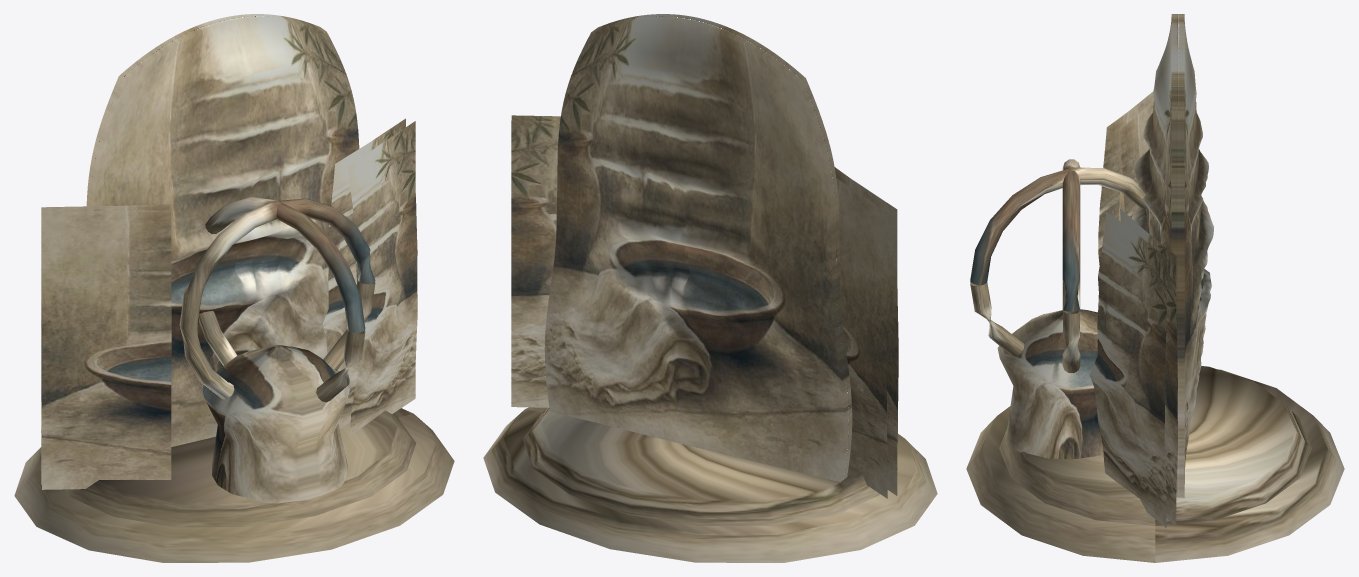
The model's file is joy-in-chains-8.glb.
3 renders of one model, left to right at view 1: azimuth 30°, elevation 25°; view 2: azimuth 150°, elevation 25°; view 3: azimuth 270°, elevation 25°, orthographic. The views are drawn at different scales.
Parts seen in each view (by area): view 1: PaintingSculptureMonument; view 2: PaintingSculptureMonument; view 3: PaintingSculptureMonument.
Part boxes in pixels (x1,y1,x2,y2): PaintingSculptureMonument: [14, 14, 454, 562]; PaintingSculptureMonument: [483, 14, 937, 562]; PaintingSculptureMonument: [966, 14, 1344, 562].
Bounding box in the file's own units: 2.76 × 2.99 × 2.35.
Materials: 1 (1 with a texture image).
